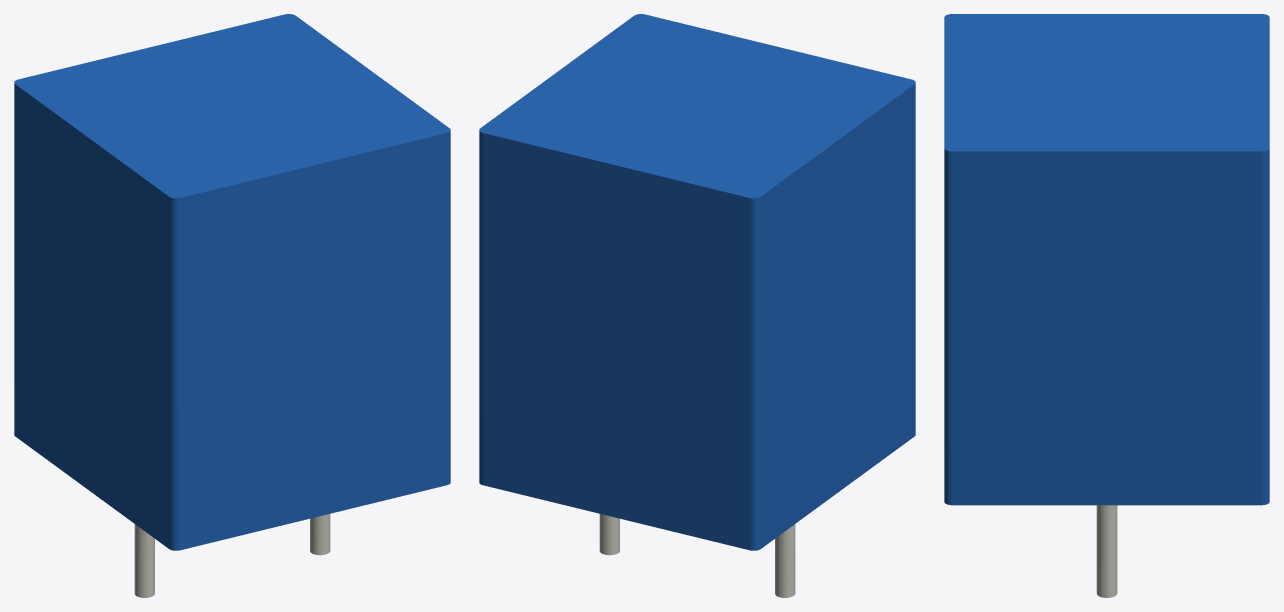
File: kc-l_radial_l8.0mm_w8.0mm_p5.00mm_neosid_sd8.glb
3 views of the same model, side by side, from view 1: azimuth 30°, elevation 25°; view 2: azimuth 150°, elevation 25°; view 3: azimuth 270°, elevation 25° (orthographic).
Visible parts, largest first — view 1: 0_0.16666666666666666_0.5_0, 0.6666666666666666_0.6666666666666666_0.5833333333333334_0.8; view 2: 0_0.16666666666666666_0.5_0, 0.6666666666666666_0.6666666666666666_0.5833333333333334_0.8; view 3: 0_0.16666666666666666_0.5_0, 0.6666666666666666_0.6666666666666666_0.5833333333333334_0.8.
Part boxes in pixels (x1,y1,x2,y2): 0_0.16666666666666666_0.5_0: (14, 14, 450, 550); 0.6666666666666666_0.6666666666666666_0.5833333333333334_0.8: (134, 514, 330, 597); 0_0.16666666666666666_0.5_0: (479, 14, 915, 550); 0.6666666666666666_0.6666666666666666_0.5833333333333334_0.8: (599, 514, 795, 597); 0_0.16666666666666666_0.5_0: (944, 14, 1269, 505); 0.6666666666666666_0.6666666666666666_0.5833333333333334_0.8: (1096, 505, 1117, 597).
Bounding box in the file's own units: 0.8 × 1.27 × 0.8.
